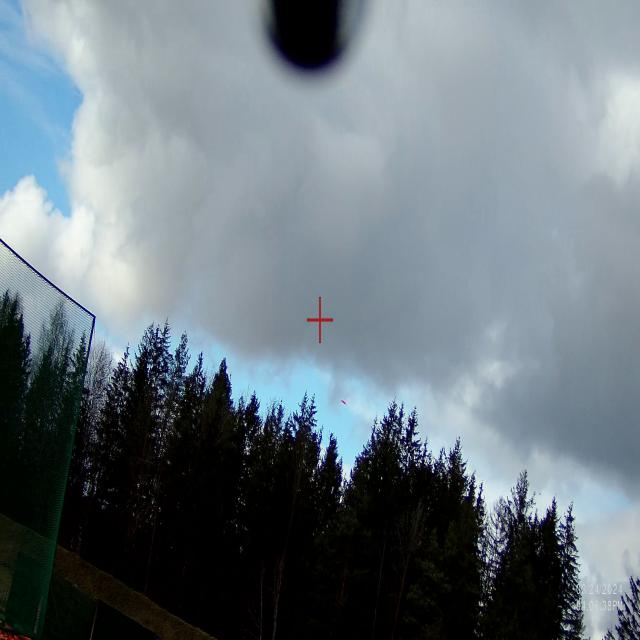entire: (338, 389, 349, 411)
